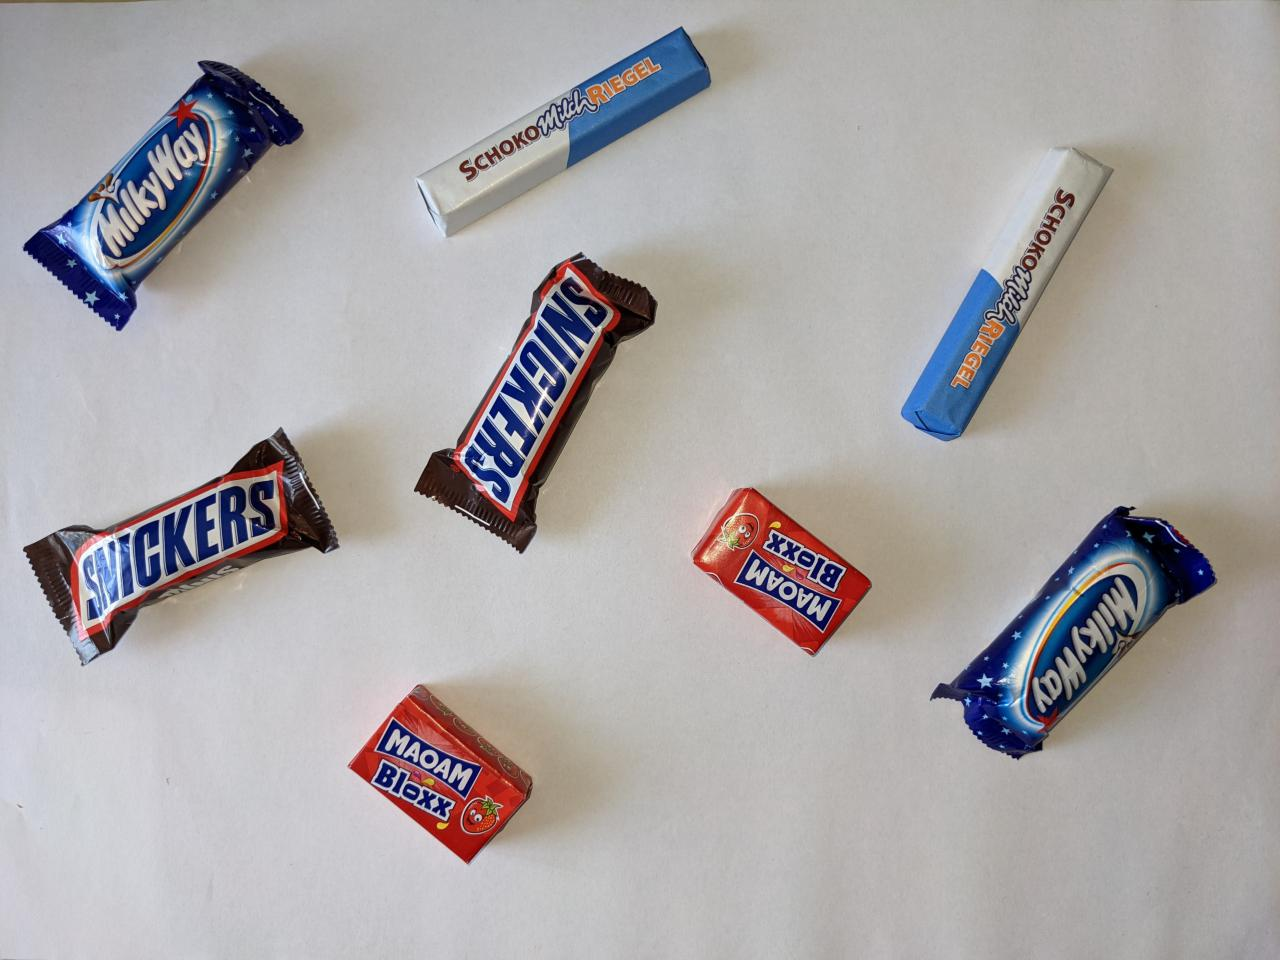MAOAM: (337, 676, 538, 870), (684, 477, 877, 662)
MilkyWay: (9, 56, 311, 339), (922, 495, 1226, 767)
Schokoriegel: (891, 135, 1120, 448), (406, 16, 722, 239)
Snickers: (15, 419, 349, 677), (409, 246, 668, 559)
